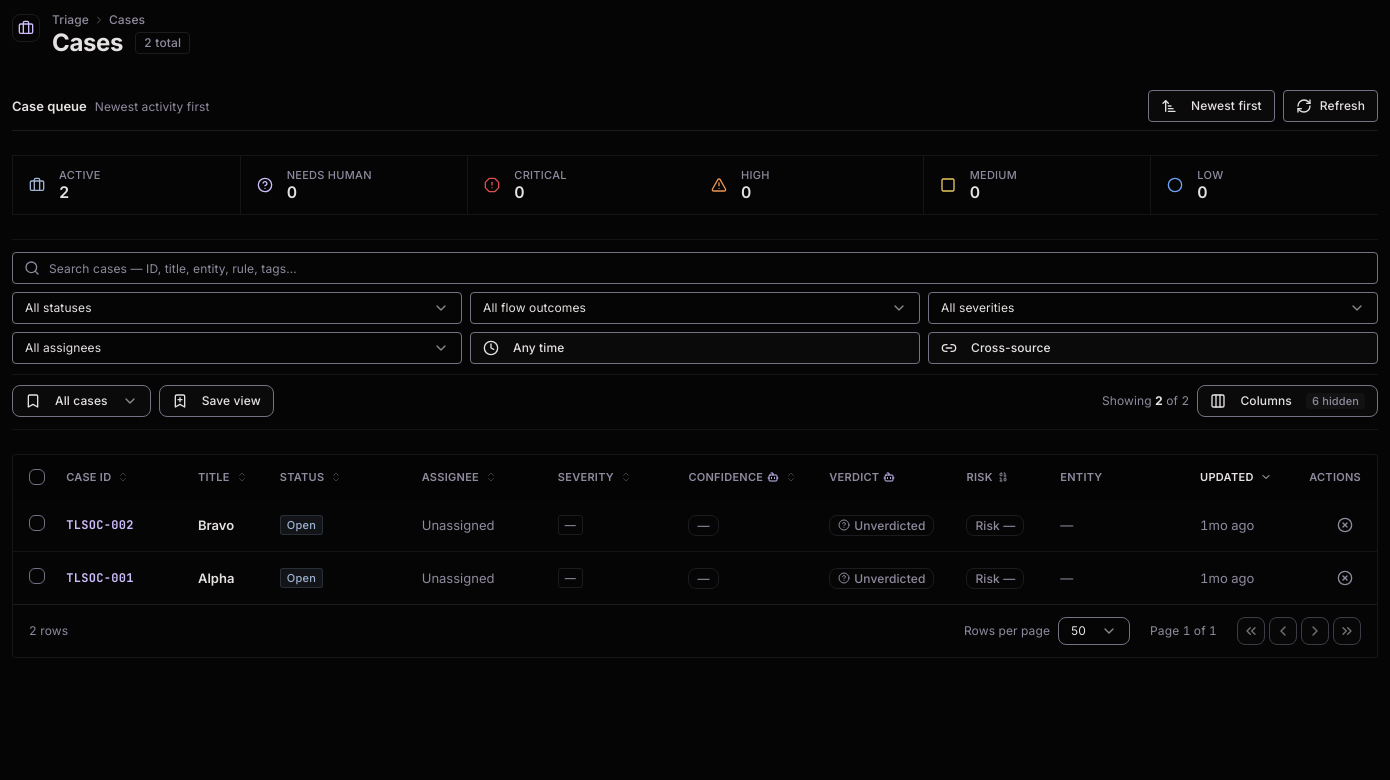
Cases controls (round-6 #0/#6) › sort direction is a true two-way toggle with a way back to newest (#6)
Check: the text "Alpha" is shown, box [198,570,234,586]
Note: Click → oldest first.
Click the button with aria-label "sort by updated time": (1211, 106) [1148,90,1275,122]
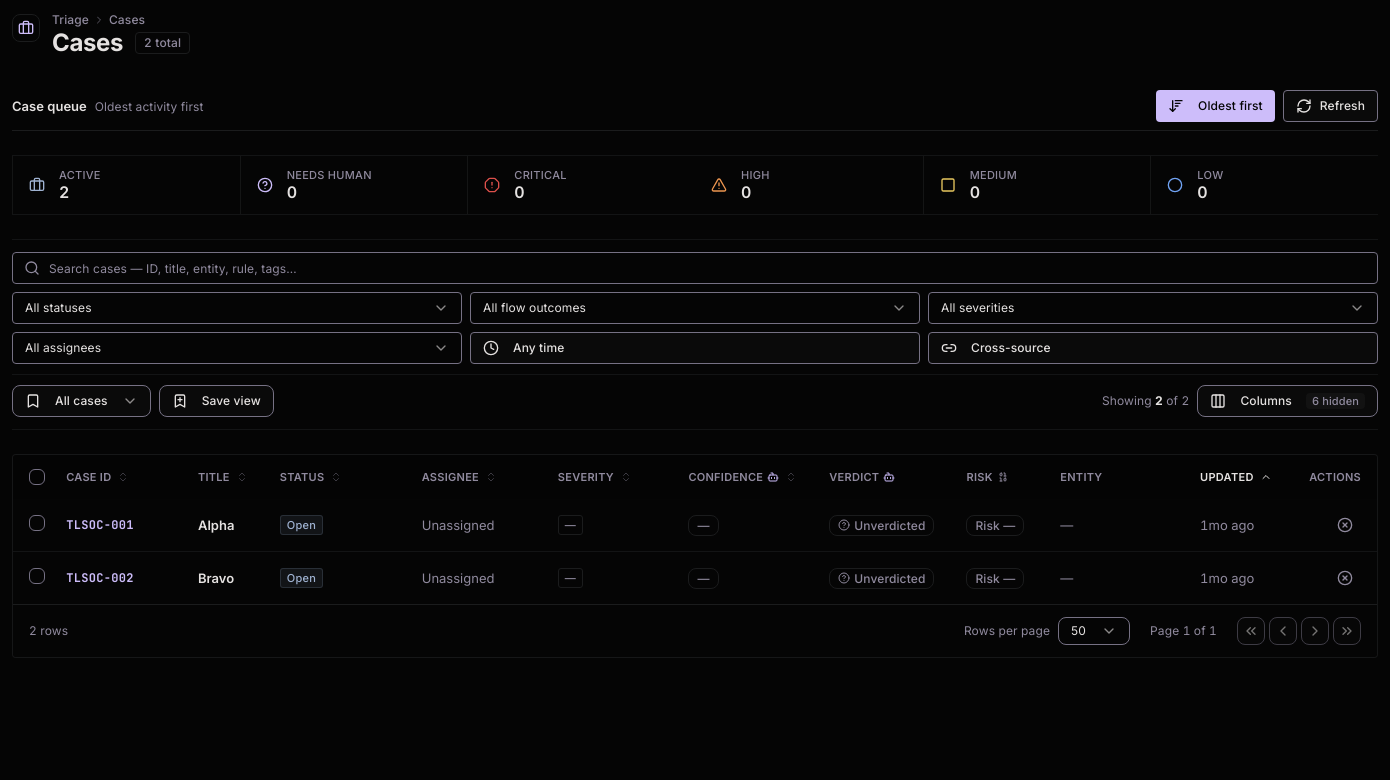
Check: the button with aria-label "sort by updated time" reads "Oldest first"
Note: Click again → BACK to newest (the old control could not do this).
Click the button with aria-label "sort by updated time": (1215, 106) [1156,90,1275,122]
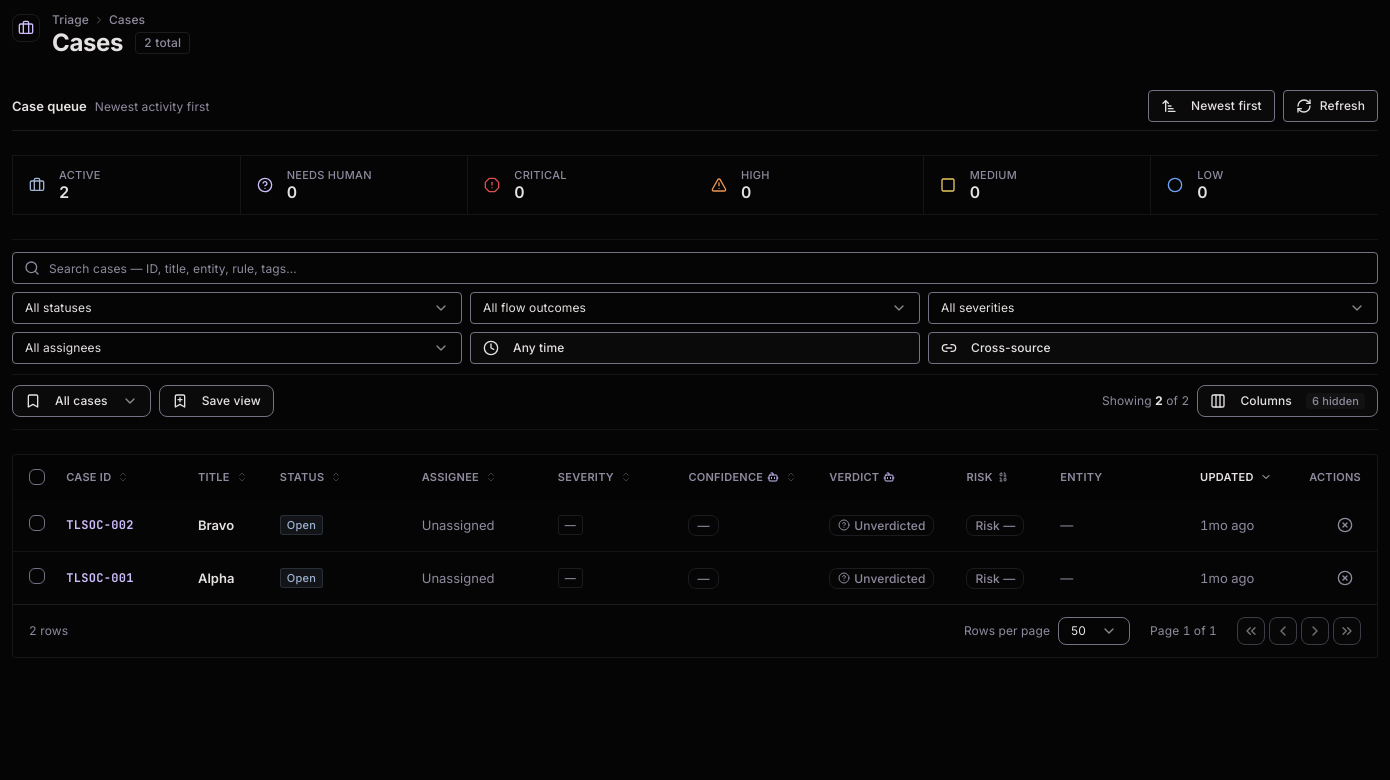
Check: the button with aria-label "sort by updated time" reads "Newest first", box [1148,90,1275,122]
